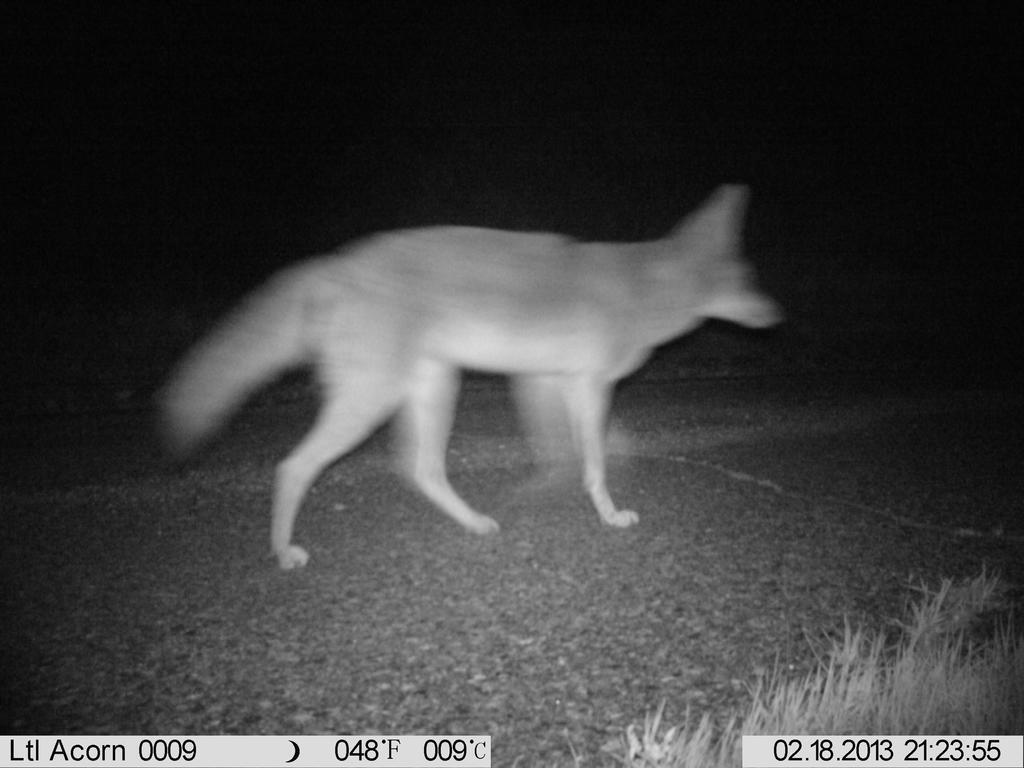coyote: (149, 176, 798, 580)
